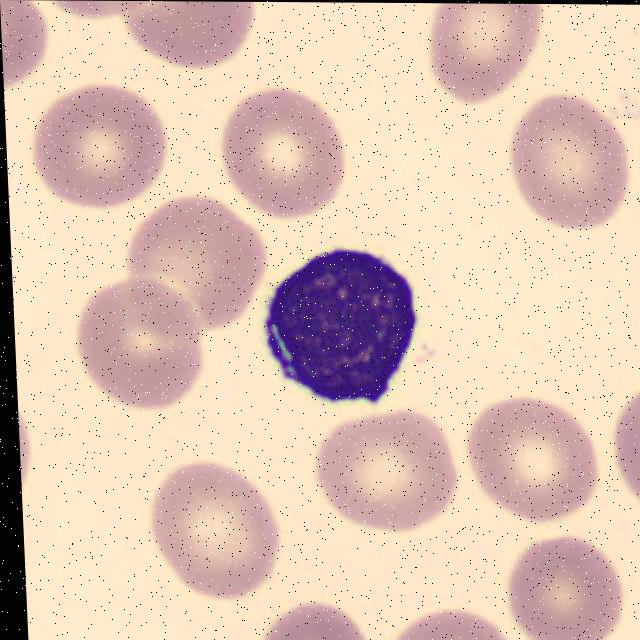lymphocyte: (252, 230, 417, 418)
rbc: (33, 85, 173, 213), (147, 466, 284, 594), (126, 204, 265, 325), (70, 290, 208, 408), (512, 100, 640, 226), (222, 95, 345, 218), (476, 402, 595, 516), (323, 421, 453, 522), (511, 542, 634, 640), (423, 3, 545, 92), (124, 1, 269, 66), (390, 611, 517, 640), (257, 606, 364, 640), (0, 0, 45, 80), (619, 385, 640, 527), (52, 0, 159, 19)
